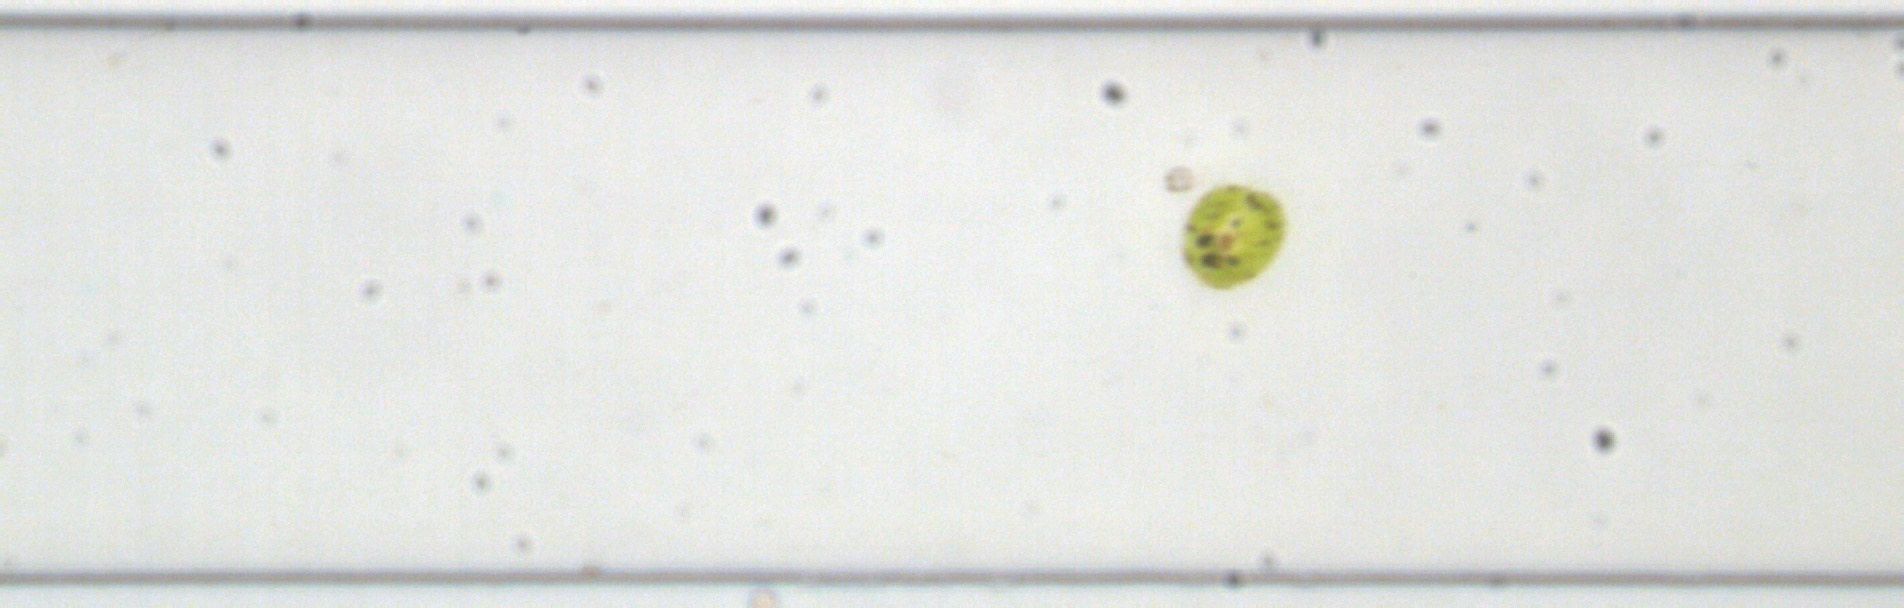Haematococcus: (1173, 178, 1288, 294)
